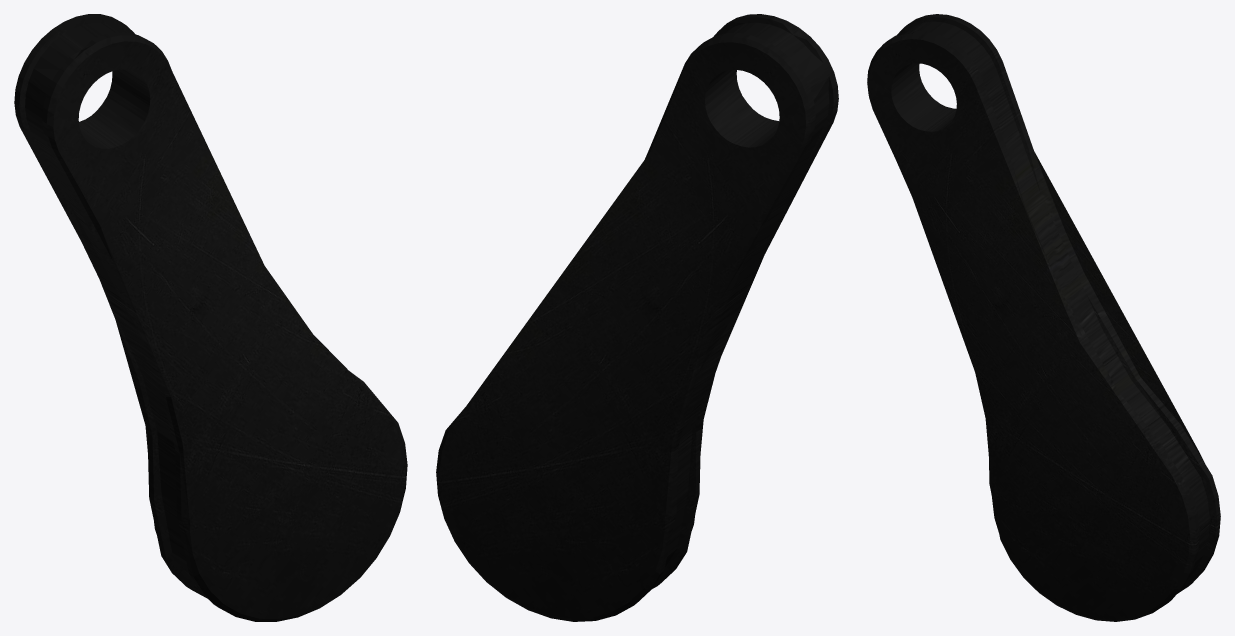
Rendered from conRod1.obj.
The picture shows the model from 3 angles, left to right: view 1: azimuth 30°, elevation 25°; view 2: azimuth 150°, elevation 25°; view 3: azimuth 330°, elevation 25°; orthographic projection. The views are drawn at different scales.
Parts seen in each view (by area): view 1: Con1_Connecting_Rod_Circle.002; view 2: Con1_Connecting_Rod_Circle.002; view 3: Con1_Connecting_Rod_Circle.002.
Part boxes in pixels (x1=…): Con1_Connecting_Rod_Circle.002: x1=14, y1=14, x2=407, y2=621; Con1_Connecting_Rod_Circle.002: x1=436, y1=14, x2=838, y2=621; Con1_Connecting_Rod_Circle.002: x1=867, y1=14, x2=1220, y2=621.
Bounding box in the file's own units: 3.35 × 5.42 × 0.6857.
Materials: 1 (1 with a texture image).
